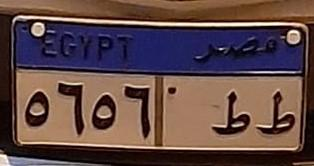5: (83, 83, 122, 138), (21, 82, 54, 138)
6: (124, 78, 157, 142), (52, 80, 84, 144)
ط: (199, 81, 255, 154), (247, 85, 303, 146)
